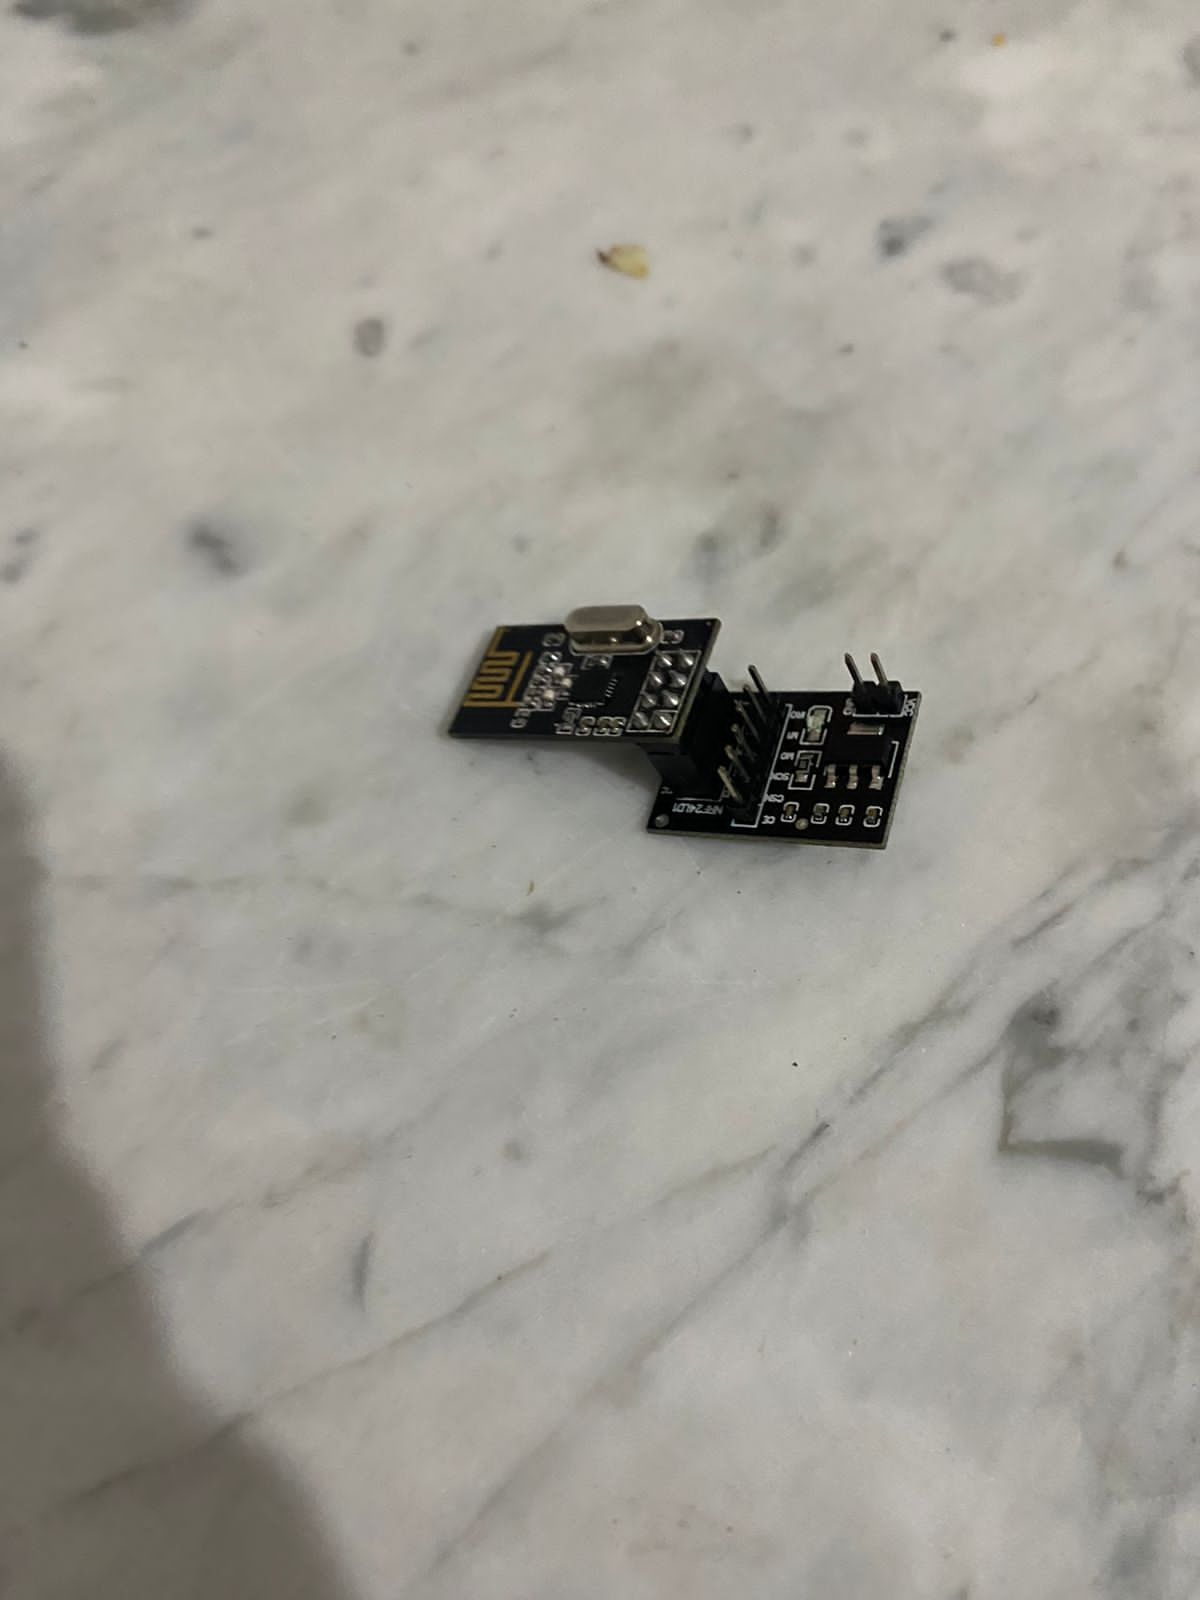RF-module: (437, 601, 937, 871)
